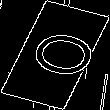O_E: (12, 26, 98, 84)
